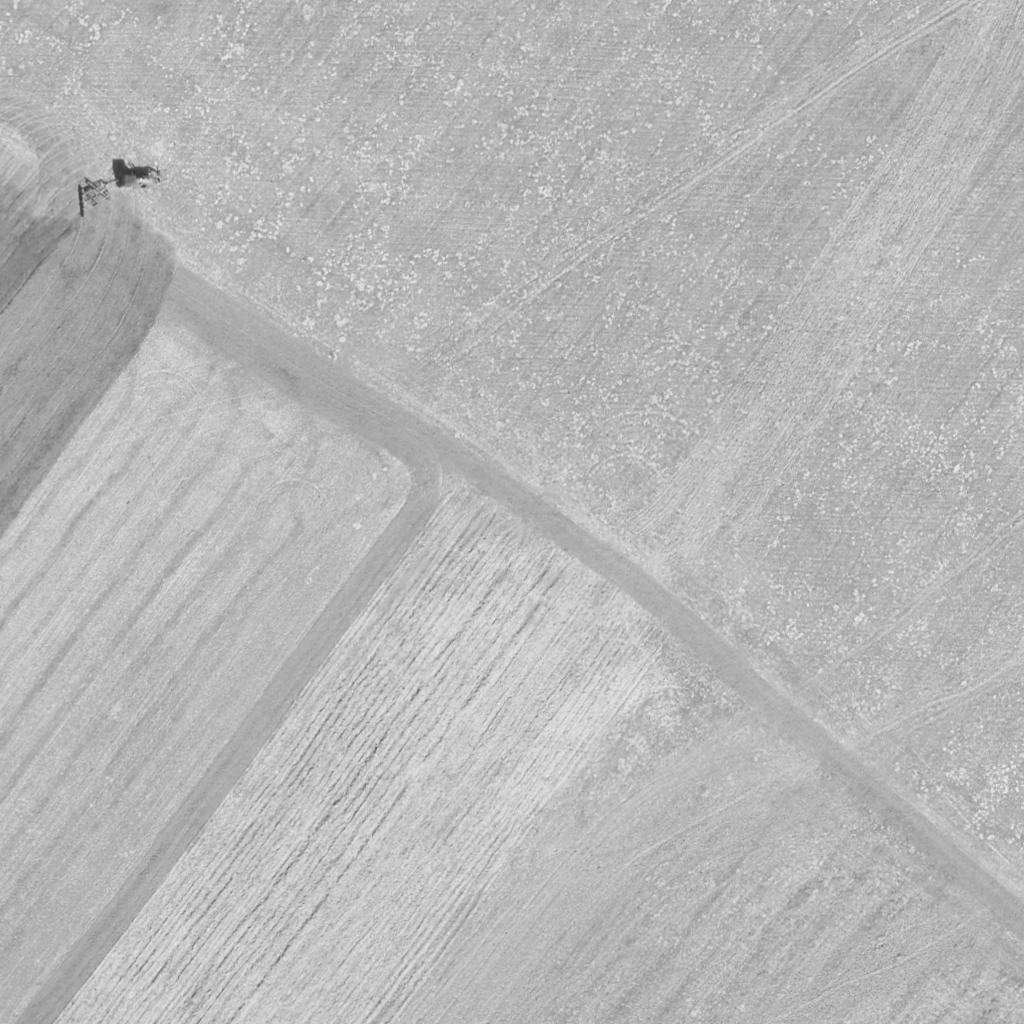vehicle: (116, 167, 168, 193)
